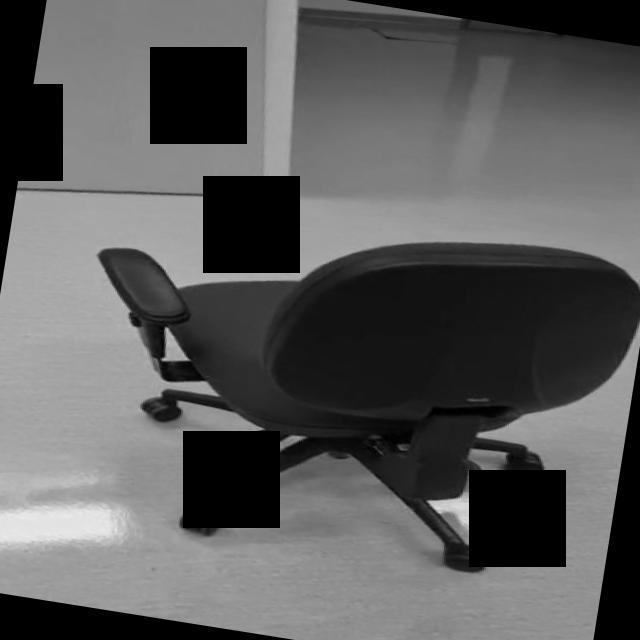chair: (58, 176, 640, 596)
